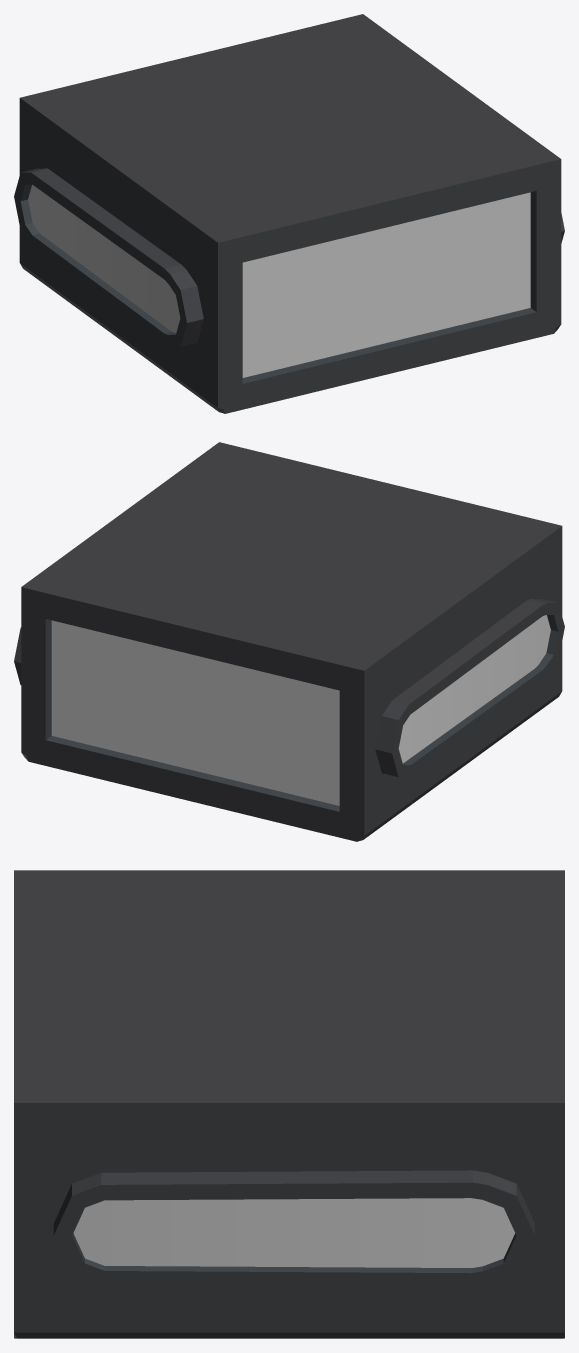
File: LightCube_03.glb
3 renders of one model, top to bottom at view 1: azimuth 30°, elevation 25°; view 2: azimuth 150°, elevation 25°; view 3: azimuth 270°, elevation 25°, orthographic. The views are drawn at different scales.
Visible parts, largest first — view 1: LightCube_03; view 2: LightCube_03; view 3: LightCube_03.
Part boxes in pixels (left/top/right/bottom): LightCube_03: left=14, top=14, right=564, bottom=413; LightCube_03: left=14, top=442, right=564, bottom=841; LightCube_03: left=14, top=870, right=564, bottom=1338.
Size of what is drawn, in the model's own units: 2.2 by 0.9627 by 2.
1 material, 1 textured.
